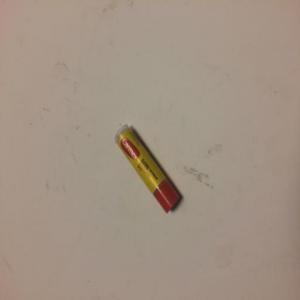Trash: (115, 122, 183, 215)
